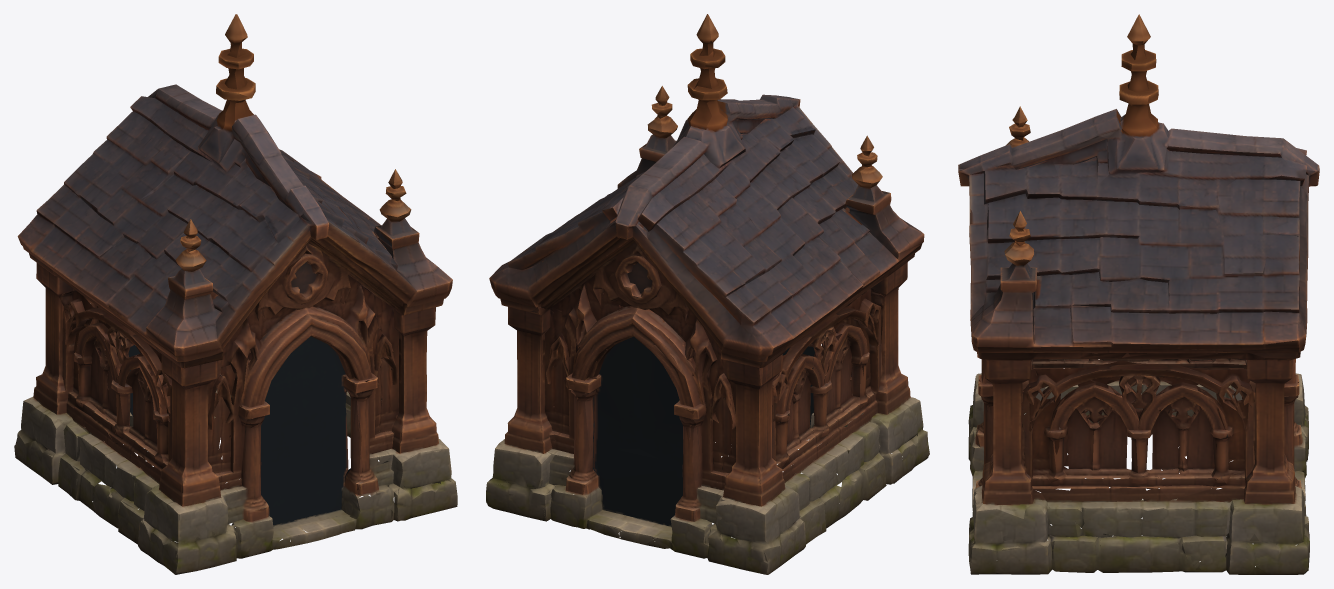
The model's file is crypt.glb.
The picture shows the model from 3 angles, left to right: view 1: azimuth 30°, elevation 25°; view 2: azimuth 150°, elevation 25°; view 3: azimuth 270°, elevation 25°; orthographic projection. The views are drawn at different scales.
Parts seen in each view (by area): view 1: low; view 2: low; view 3: low.
Part boxes in pixels (x1=…): low: x1=14, y1=14, x2=457, y2=574; low: x1=486, y1=14, x2=929, y2=574; low: x1=958, y1=14, x2=1319, y2=574.
Bounding box in the file's own units: 0.646 × 0.9944 × 0.6652.
1 material, 1 textured.
